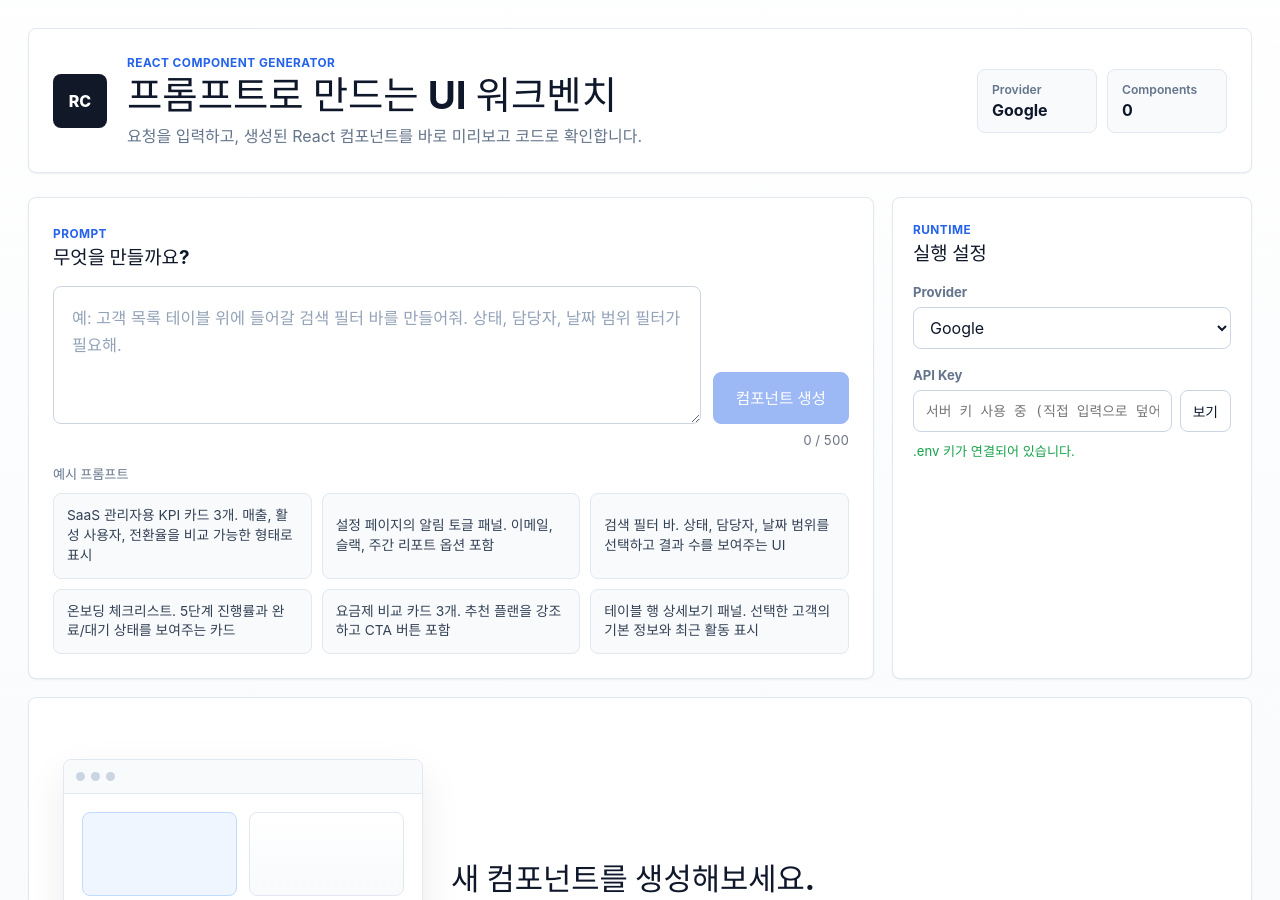
Test: App 상태 저장·복원 › 입력한 API 키는 어떤 localStorage 항목에도 저장되지 않는다
Type "dummy-key-for-test" into the password field labelled "API Key" at {"x": 1042, "y": 411}, box [913,390,1172,432]
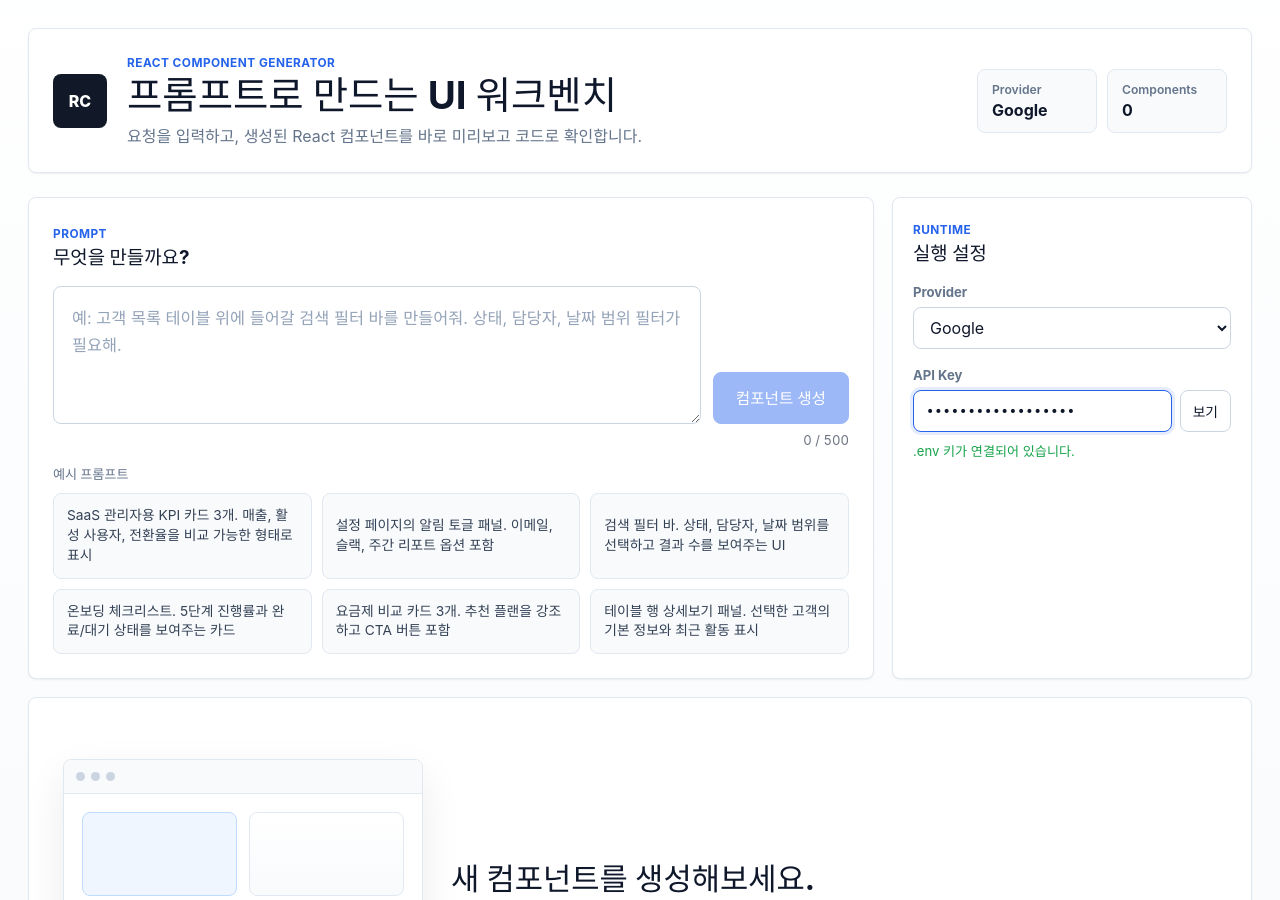
Type "프로필 카드" into the text box at {"x": 377, "y": 355}, box [53,286,701,424]
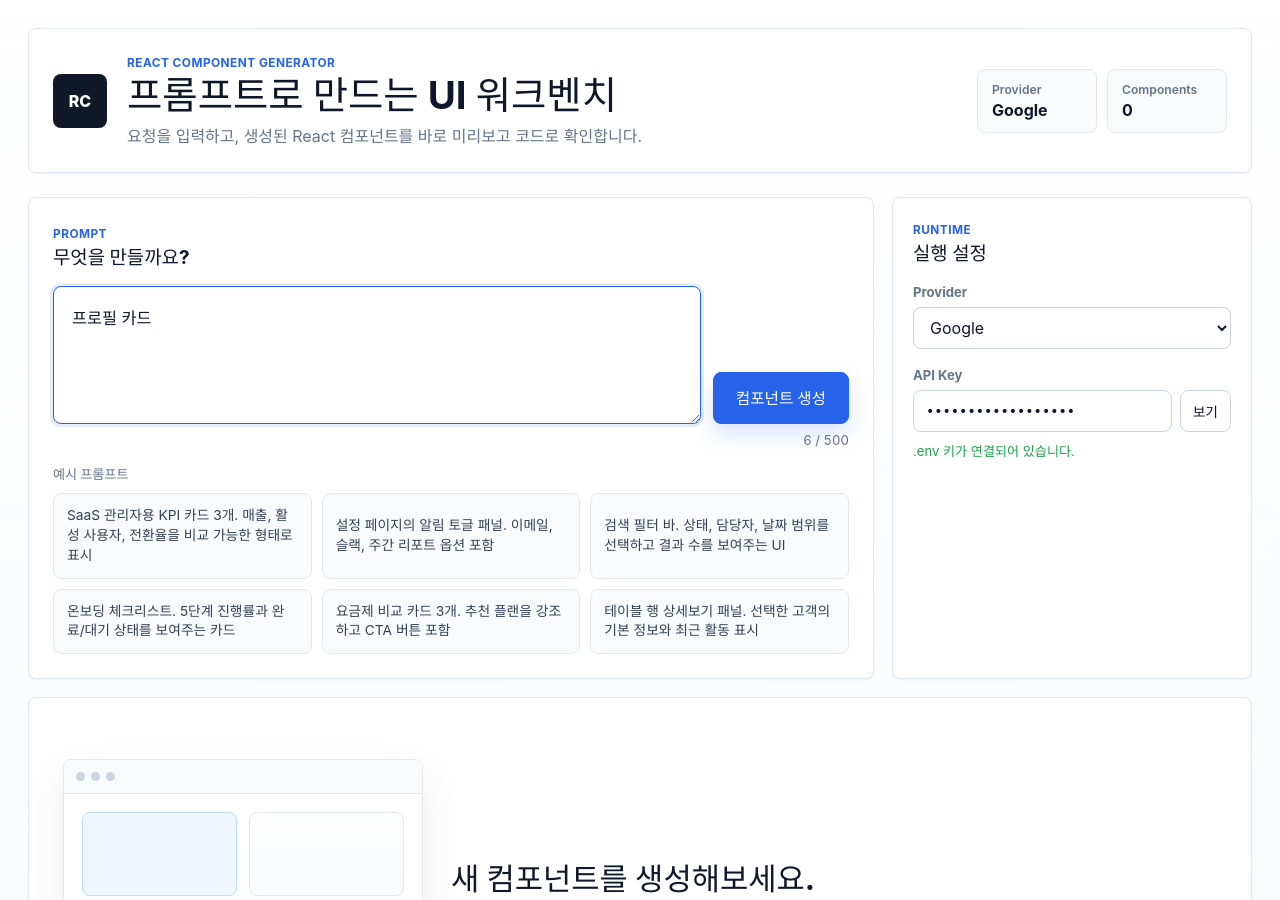
Click the button "컴포넌트 생성" at {"x": 781, "y": 398}, box [713,372,849,424]
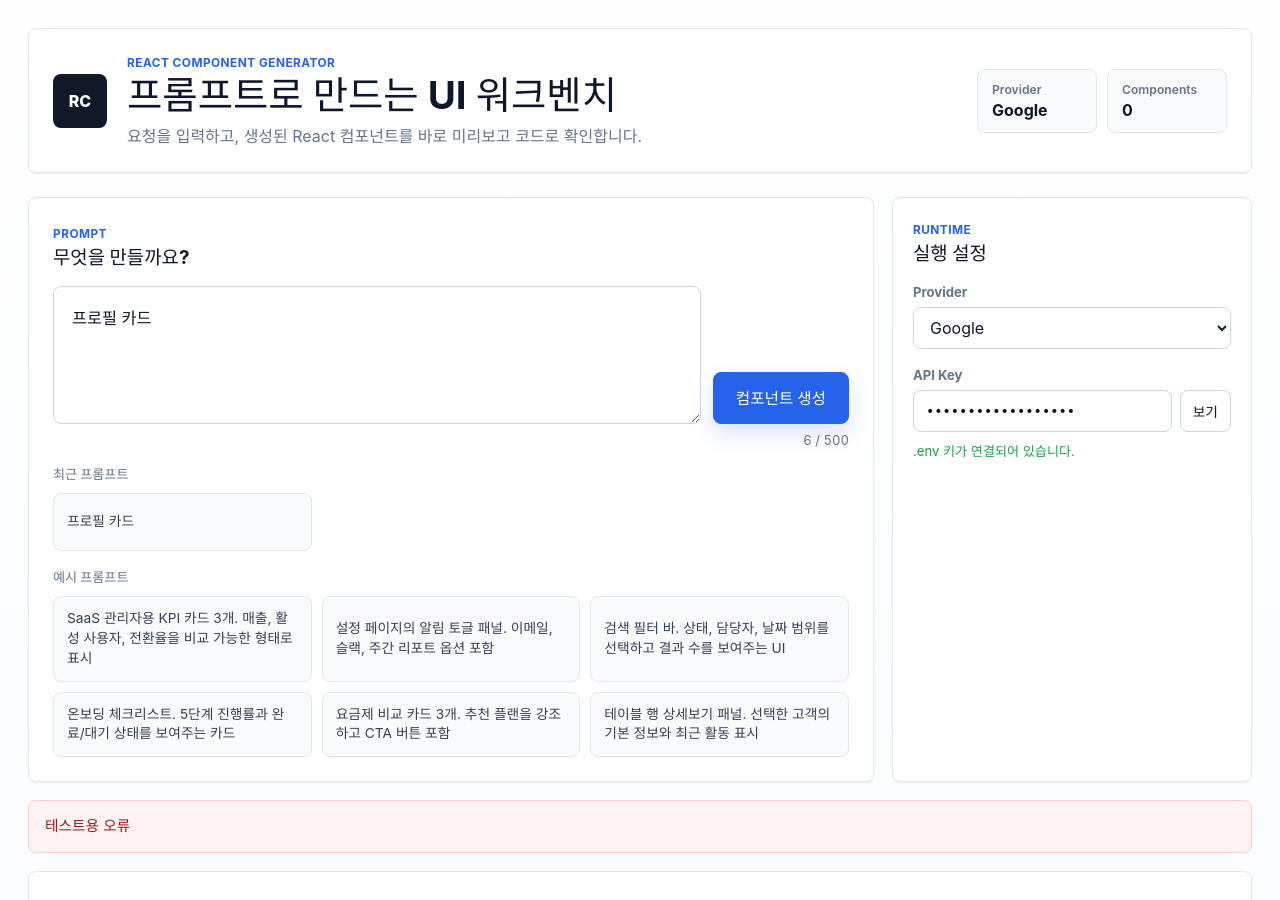
Expected: the button "프로필 카드" is shown, [53,493,312,551]
